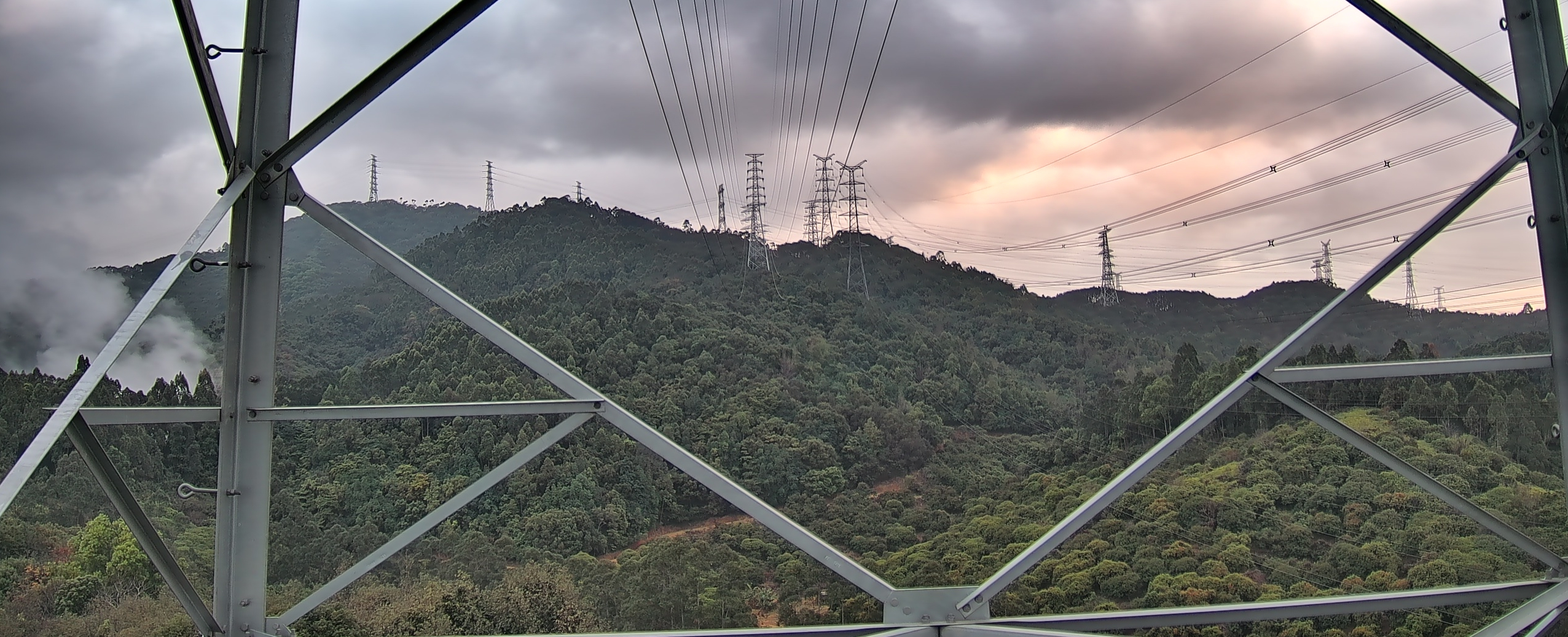烟雾: (0, 174, 223, 402)
